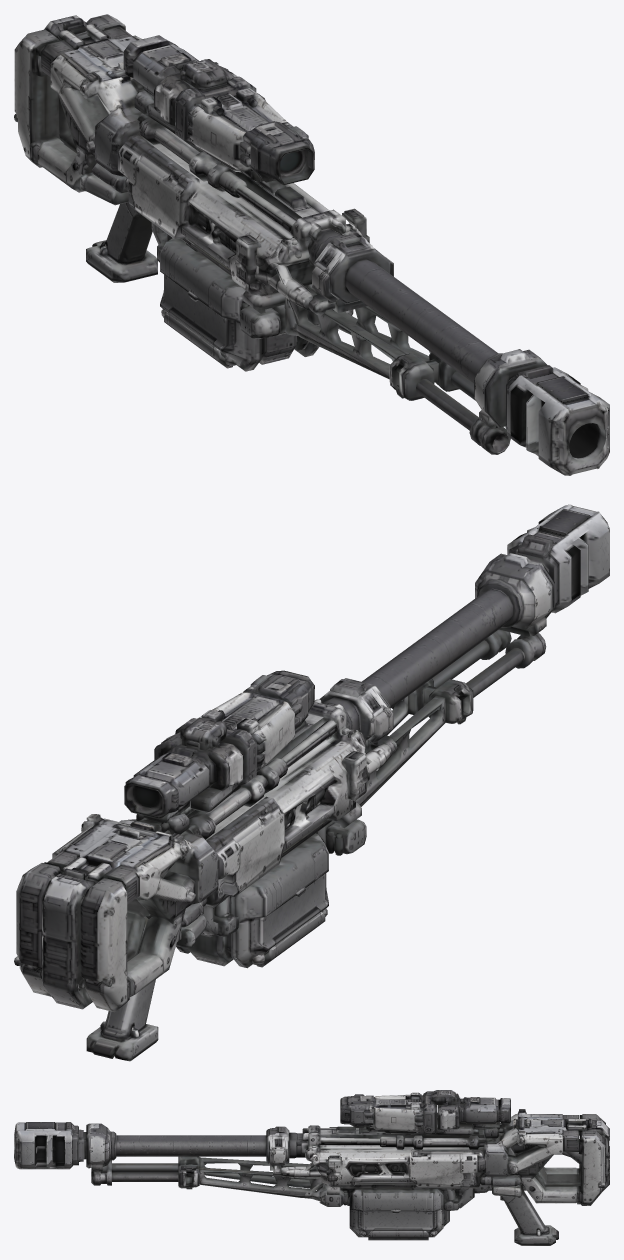
File: ban_tia_moi.glb
3 renders of one model, top to bottom at view 1: azimuth 30°, elevation 25°; view 2: azimuth 150°, elevation 25°; view 3: azimuth 270°, elevation 25°, orthographic. The views are drawn at different scales.
Parts seen in each view (by area): view 1: tripo_7eb48304_bf35_4dd8_9c19_60c6fab44958; view 2: tripo_7eb48304_bf35_4dd8_9c19_60c6fab44958; view 3: tripo_7eb48304_bf35_4dd8_9c19_60c6fab44958.
Part boxes in pixels (x1,y1,x2,y2): tripo_7eb48304_bf35_4dd8_9c19_60c6fab44958: [14, 14, 609, 475]; tripo_7eb48304_bf35_4dd8_9c19_60c6fab44958: [14, 504, 609, 1061]; tripo_7eb48304_bf35_4dd8_9c19_60c6fab44958: [14, 1090, 609, 1245].
Size of the model in its own units: 1.13 by 2.31 by 8.5.
1 material, 1 textured.
